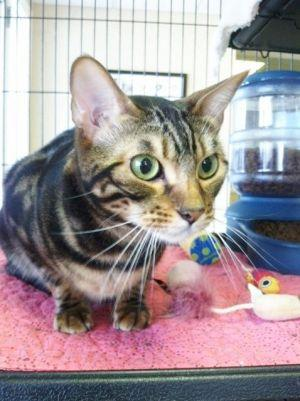bengal: (65, 49, 255, 250)
